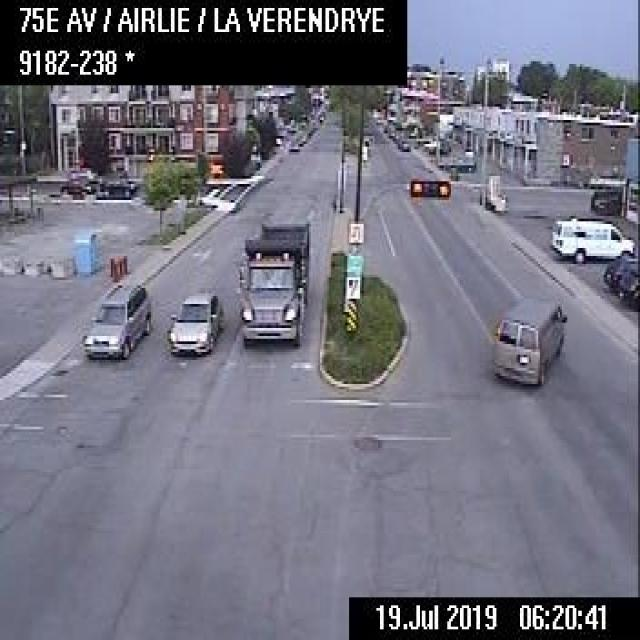construction: (112, 255, 118, 279), (122, 251, 128, 272), (118, 254, 122, 275)
vehicle: (236, 213, 311, 347), (489, 291, 567, 389), (80, 275, 151, 363), (549, 215, 632, 260), (165, 288, 220, 355), (600, 253, 638, 288), (56, 177, 100, 198), (100, 175, 136, 198), (436, 151, 477, 171), (618, 263, 637, 304), (286, 138, 299, 150), (398, 137, 410, 150)
